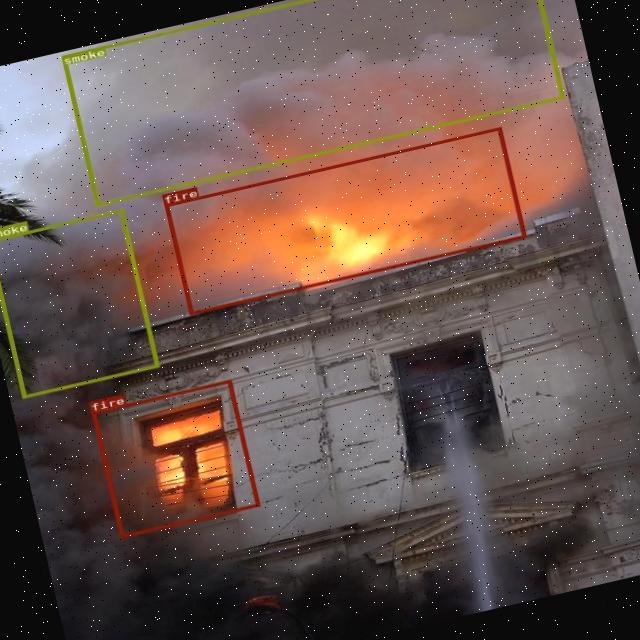fire: (162, 126, 526, 314), (90, 378, 260, 538)
smoke: (59, 0, 564, 205), (0, 208, 158, 397)
